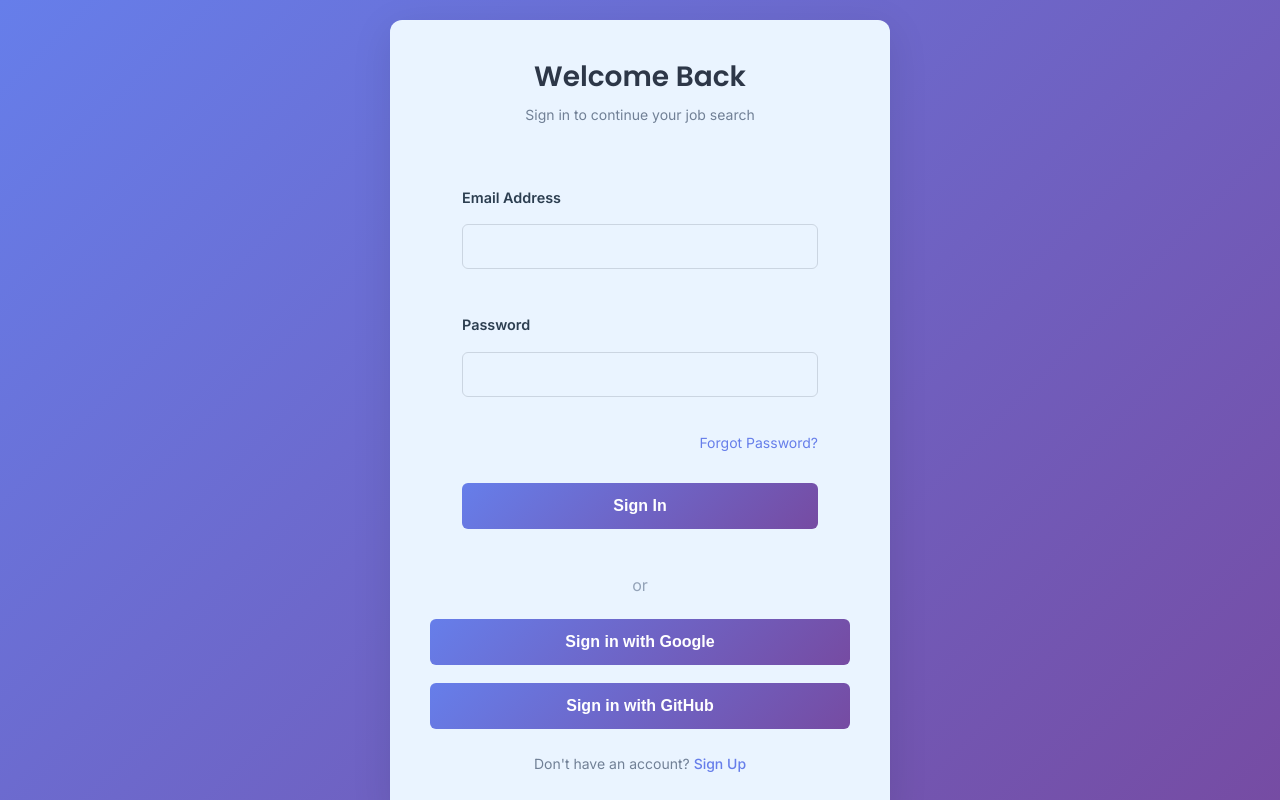
Login › shows cancelled message when popup closed by user
Click the button "Sign in with Google": (640, 642) [430,619,850,665]
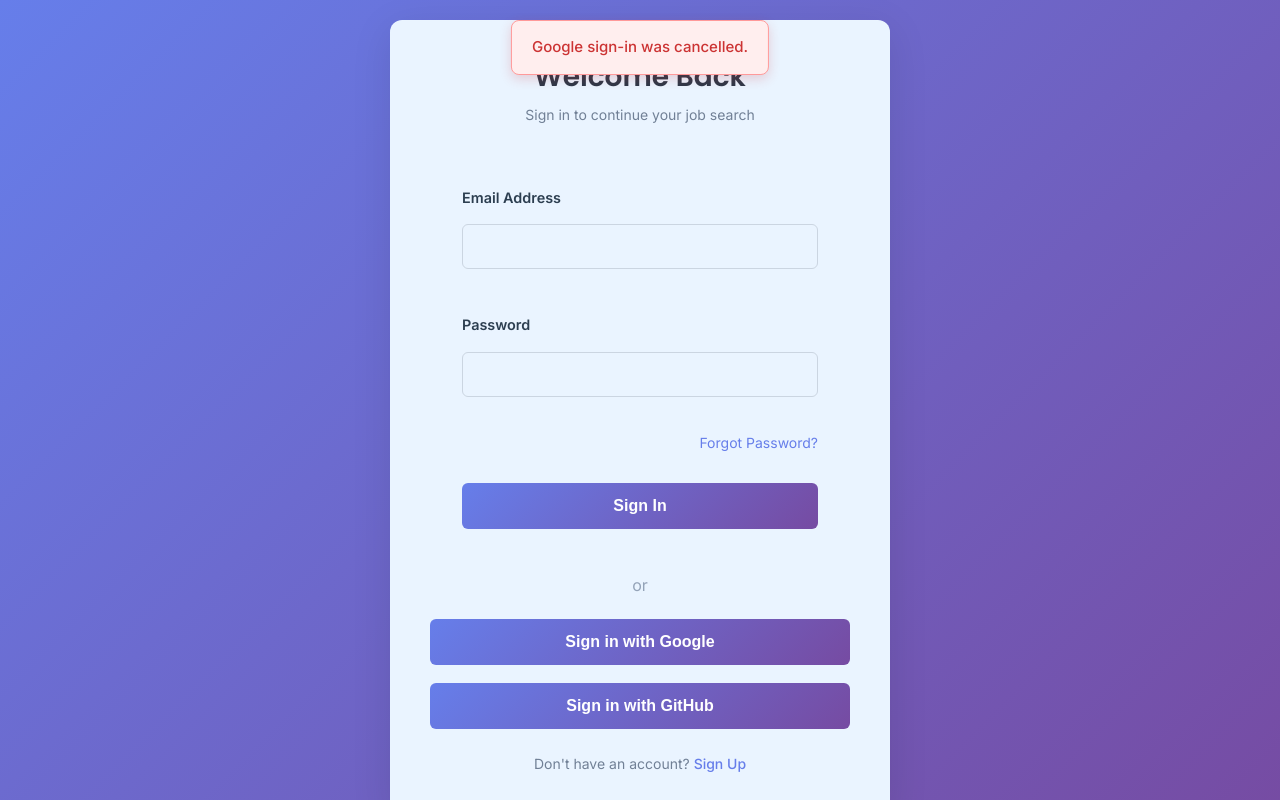
Now the text "Google sign-in was cancelled." is shown, box [511,20,769,74]
